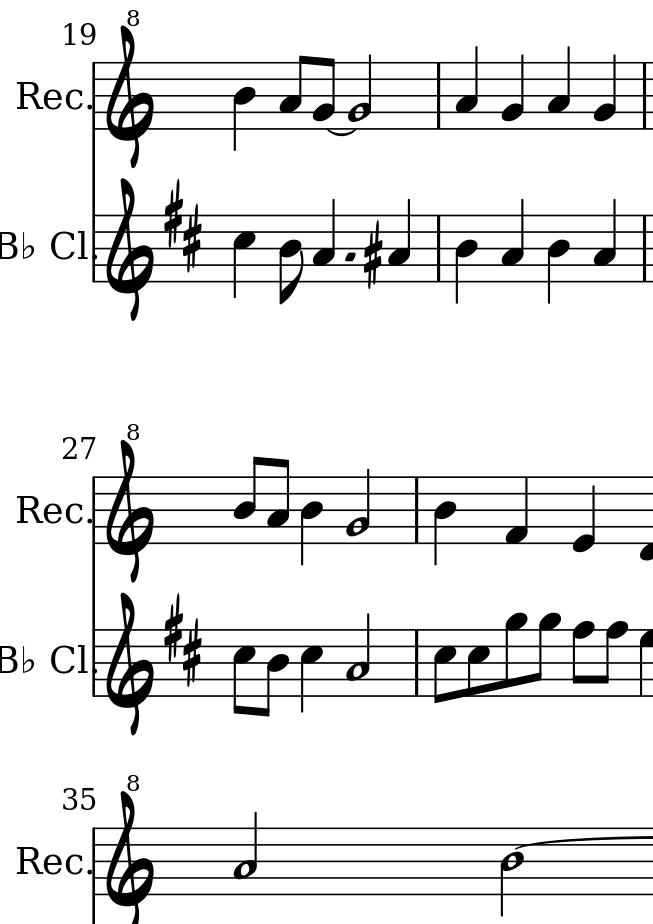1: (62, 18, 75, 49)
2: (60, 434, 78, 463)
2_2: (345, 467, 371, 544), (349, 52, 374, 130)
2_3: (344, 610, 372, 697), (232, 809, 258, 896)
2_4: (499, 824, 526, 919)
3: (61, 786, 78, 813)
4_0: (570, 475, 597, 554)
4_1: (505, 475, 529, 545)
4_2: (593, 53, 618, 130), (502, 52, 526, 131)
4_3: (454, 44, 480, 130), (501, 197, 525, 283), (547, 44, 571, 130), (312, 198, 336, 283), (388, 197, 412, 282), (593, 198, 617, 283)
4_4: (453, 212, 480, 306), (299, 474, 324, 565), (547, 213, 572, 304), (432, 475, 457, 565), (232, 61, 256, 151)
4_5: (233, 214, 257, 300), (300, 628, 323, 712)
5: (78, 786, 97, 813)
7: (79, 435, 95, 462)
8_2: (313, 57, 336, 128)
8_3: (279, 55, 310, 128), (266, 458, 290, 546)
8_4: (231, 455, 264, 544), (260, 628, 290, 719), (278, 214, 305, 305)
8_5: (431, 628, 458, 708), (232, 628, 256, 715), (466, 628, 491, 698)
8_8: (598, 620, 629, 697), (572, 621, 596, 698)
8_9: (529, 612, 562, 700), (504, 612, 528, 700)
9: (78, 20, 96, 47)
Cl: (47, 228, 90, 265), (50, 639, 84, 676)
D_S: (161, 178, 203, 271), (164, 592, 204, 684)
Gclef: (105, 174, 158, 327), (105, 589, 157, 742)
High_Gclef: (106, 421, 157, 584), (106, 6, 156, 168), (106, 773, 154, 924)
Rec: (15, 493, 84, 527), (15, 79, 83, 112), (15, 845, 83, 877)
Sharp: (361, 220, 384, 292)
Single_barline: (408, 630, 425, 698), (408, 477, 425, 543), (430, 215, 447, 281), (87, 827, 102, 897), (636, 63, 652, 128), (431, 63, 446, 129), (637, 216, 652, 281), (88, 62, 101, 133), (88, 629, 101, 698), (88, 214, 100, 283), (88, 477, 100, 546)
Slur: (327, 127, 357, 138)
dot: (342, 249, 356, 262)
